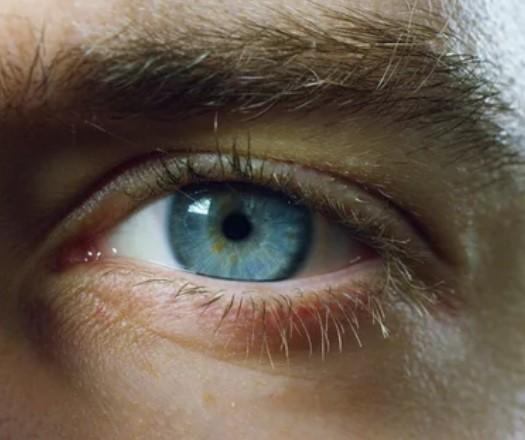eye: (164, 178, 316, 283)
